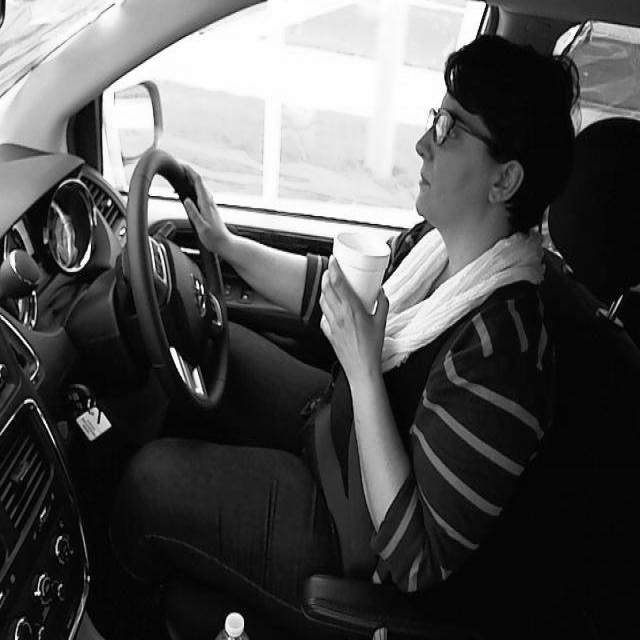drinking: (324, 227, 392, 339)
